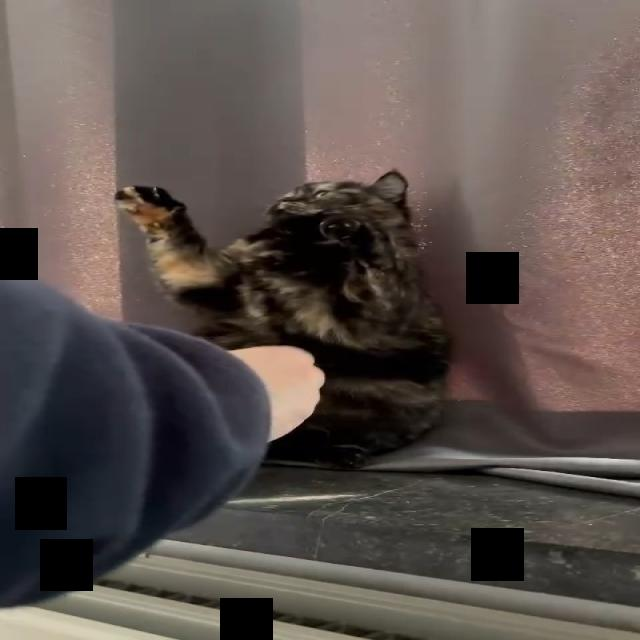authorized: (112, 168, 455, 470)
